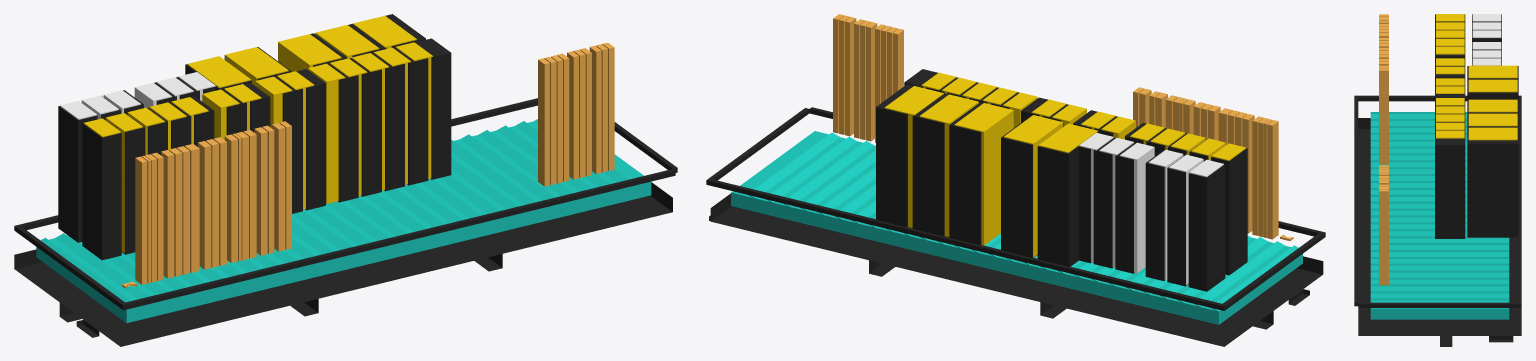
The model's file is Bảng hiệu tôn sóng chữ mica.obj.
3 renders of one model, left to right at view 1: azimuth 30°, elevation 25°; view 2: azimuth 150°, elevation 25°; view 3: azimuth 270°, elevation 25°, orthographic. The views are drawn at different scales.
Parts seen in each view (by area): view 1: bang_hieu_ton_song_chu_mica; view 2: bang_hieu_ton_song_chu_mica; view 3: bang_hieu_ton_song_chu_mica.
Boxes of the visible parts, x1=… form: bang_hieu_ton_song_chu_mica: x1=14, y1=14, x2=677, y2=346; bang_hieu_ton_song_chu_mica: x1=706, y1=14, x2=1325, y2=346; bang_hieu_ton_song_chu_mica: x1=1354, y1=14, x2=1521, y2=346.
Bounding box in the file's own units: 1.23 × 0.375 × 0.41.
